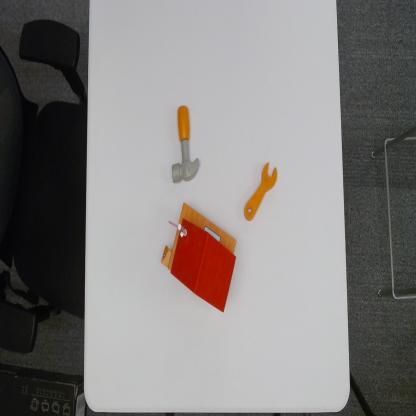Hammer: (171, 102, 201, 184)
House: (160, 201, 238, 314)
Screwdriver: (243, 160, 279, 224)
